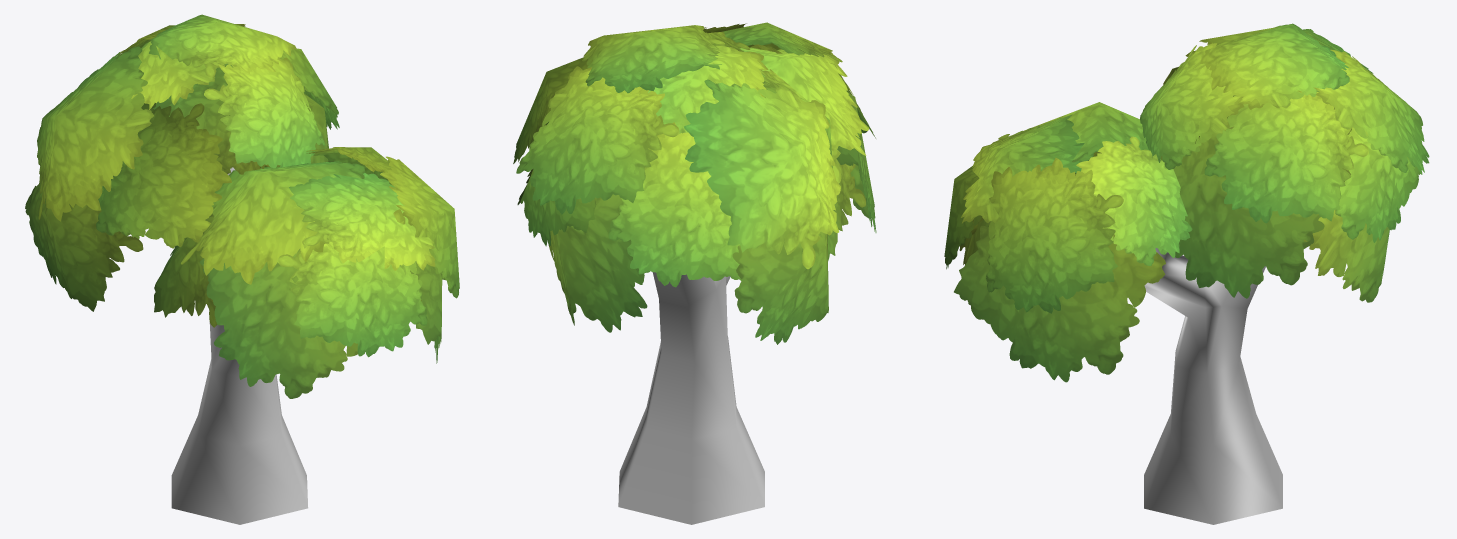
3 renders of one model, left to right at view 1: azimuth 30°, elevation 25°; view 2: azimuth 150°, elevation 25°; view 3: azimuth 270°, elevation 25°, orthographic. The views are drawn at different scales.
Visible parts, largest first — view 1: leaf, tree; view 2: leaf, tree; view 3: leaf, tree.
Part boxes in pixels (x1,y1,x2,y2): leaf: (25,14,459,398); tree: (171,167,308,524); leaf: (513,22,876,344); tree: (618,272,764,524); leaf: (944,23,1429,382); tree: (1144,248,1282,524).
Size of the model in its own units: 356 by 460 by 479.
